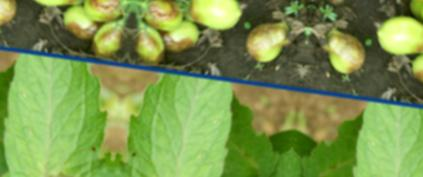Tomato leaf late blight: (95, 69, 264, 177)
